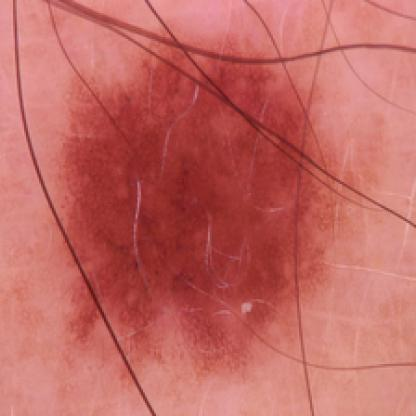benign: (63, 41, 353, 353)
